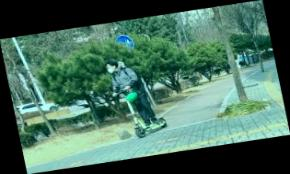nonhelmet: (102, 53, 174, 142)
